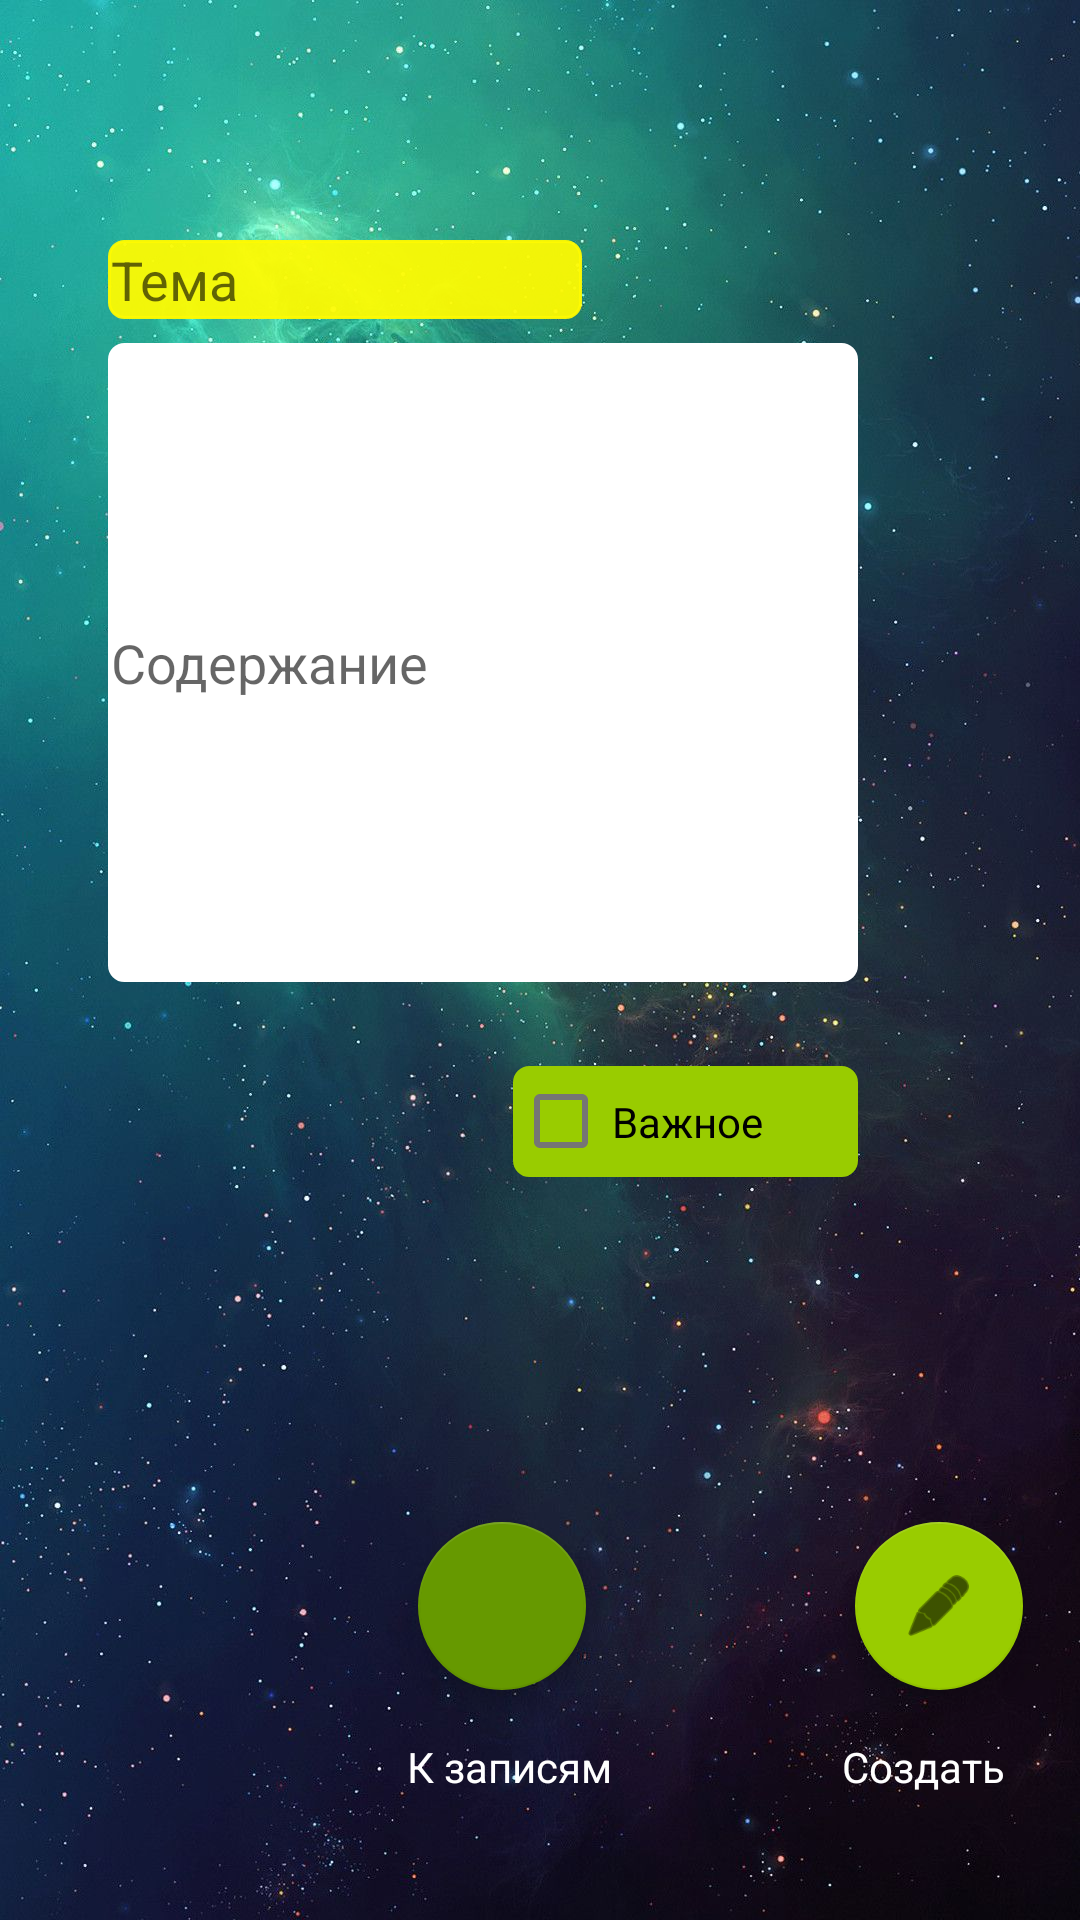

Screen size 1080×1920. Icon name, then its box in pixels as Rect(x1, y1, x2, y2):
edit: Rect(855, 1522, 1023, 1690)
